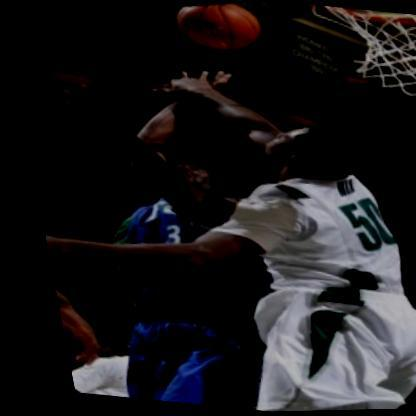basketball: (158, 0, 279, 61)
